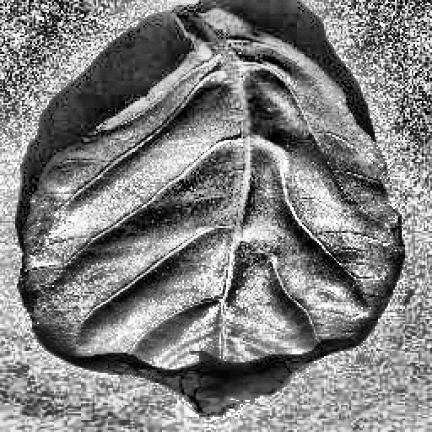leaf: (19, 8, 403, 413)
